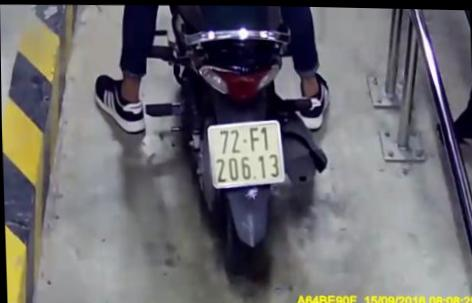LP: (205, 117, 287, 188)
